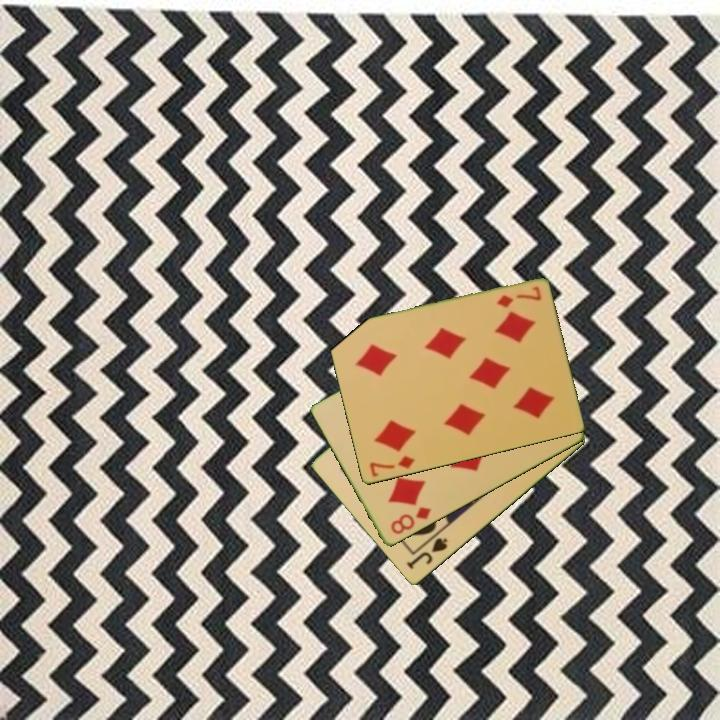7d: (366, 452, 418, 480), (493, 283, 544, 311)
8d: (387, 504, 434, 538)
Js: (403, 535, 450, 572)
